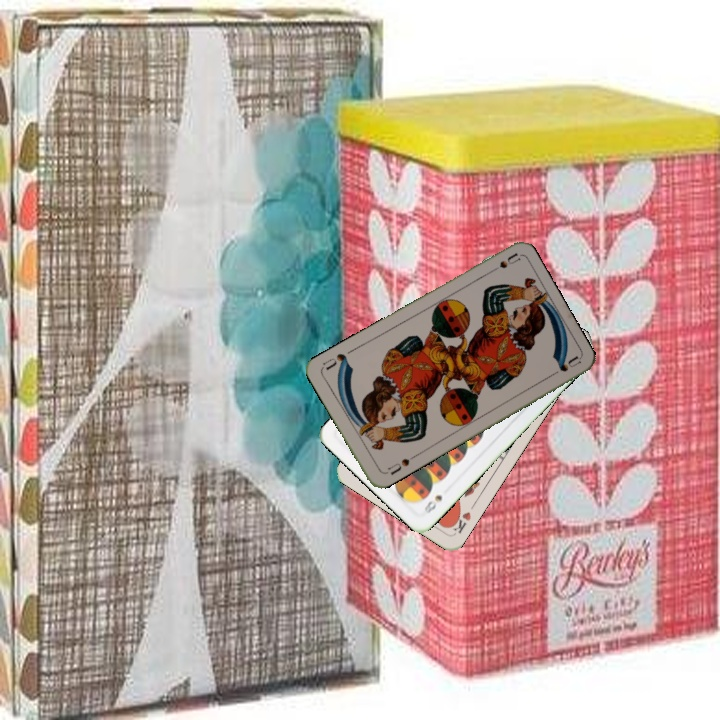HK: (446, 507, 474, 536)
S8: (420, 491, 445, 518)
SU: (483, 249, 522, 277), (380, 454, 412, 478)
